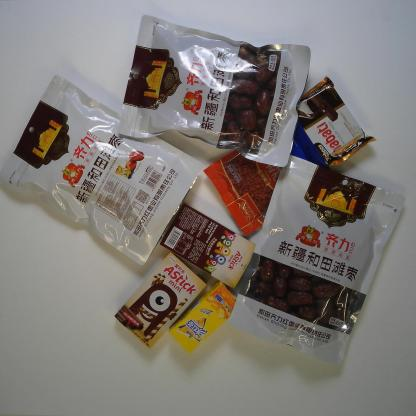Dessert: (113, 254, 209, 350), (158, 203, 257, 292), (300, 74, 379, 169)
Dried Food: (0, 73, 210, 269), (228, 153, 406, 365), (115, 13, 312, 171)
Dried Fruit: (201, 148, 285, 237)
Drink: (168, 282, 237, 353)
